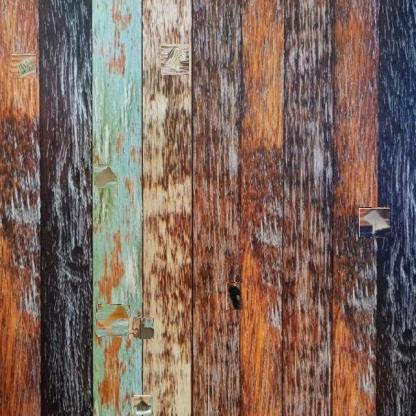dirty: (160, 44, 190, 74), (360, 208, 390, 237), (11, 54, 36, 79), (94, 164, 118, 188), (226, 282, 245, 310), (133, 396, 152, 416)
liquid: (97, 304, 129, 336), (128, 317, 154, 339)
